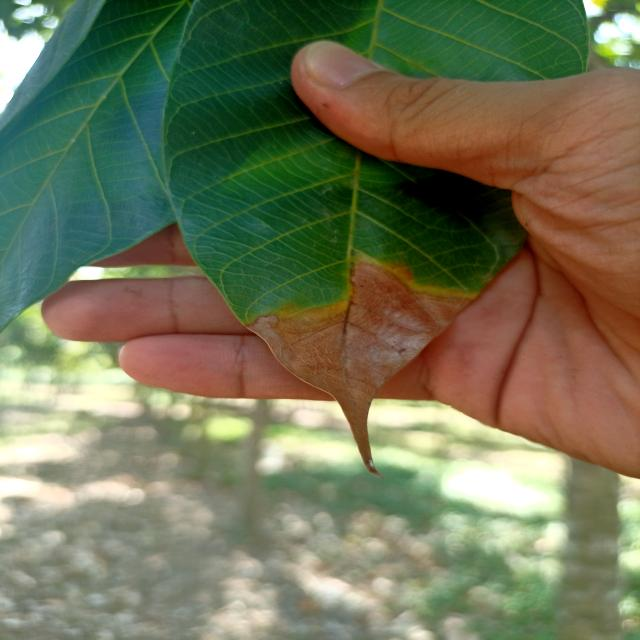Leaf-Blight: (245, 260, 474, 477)
